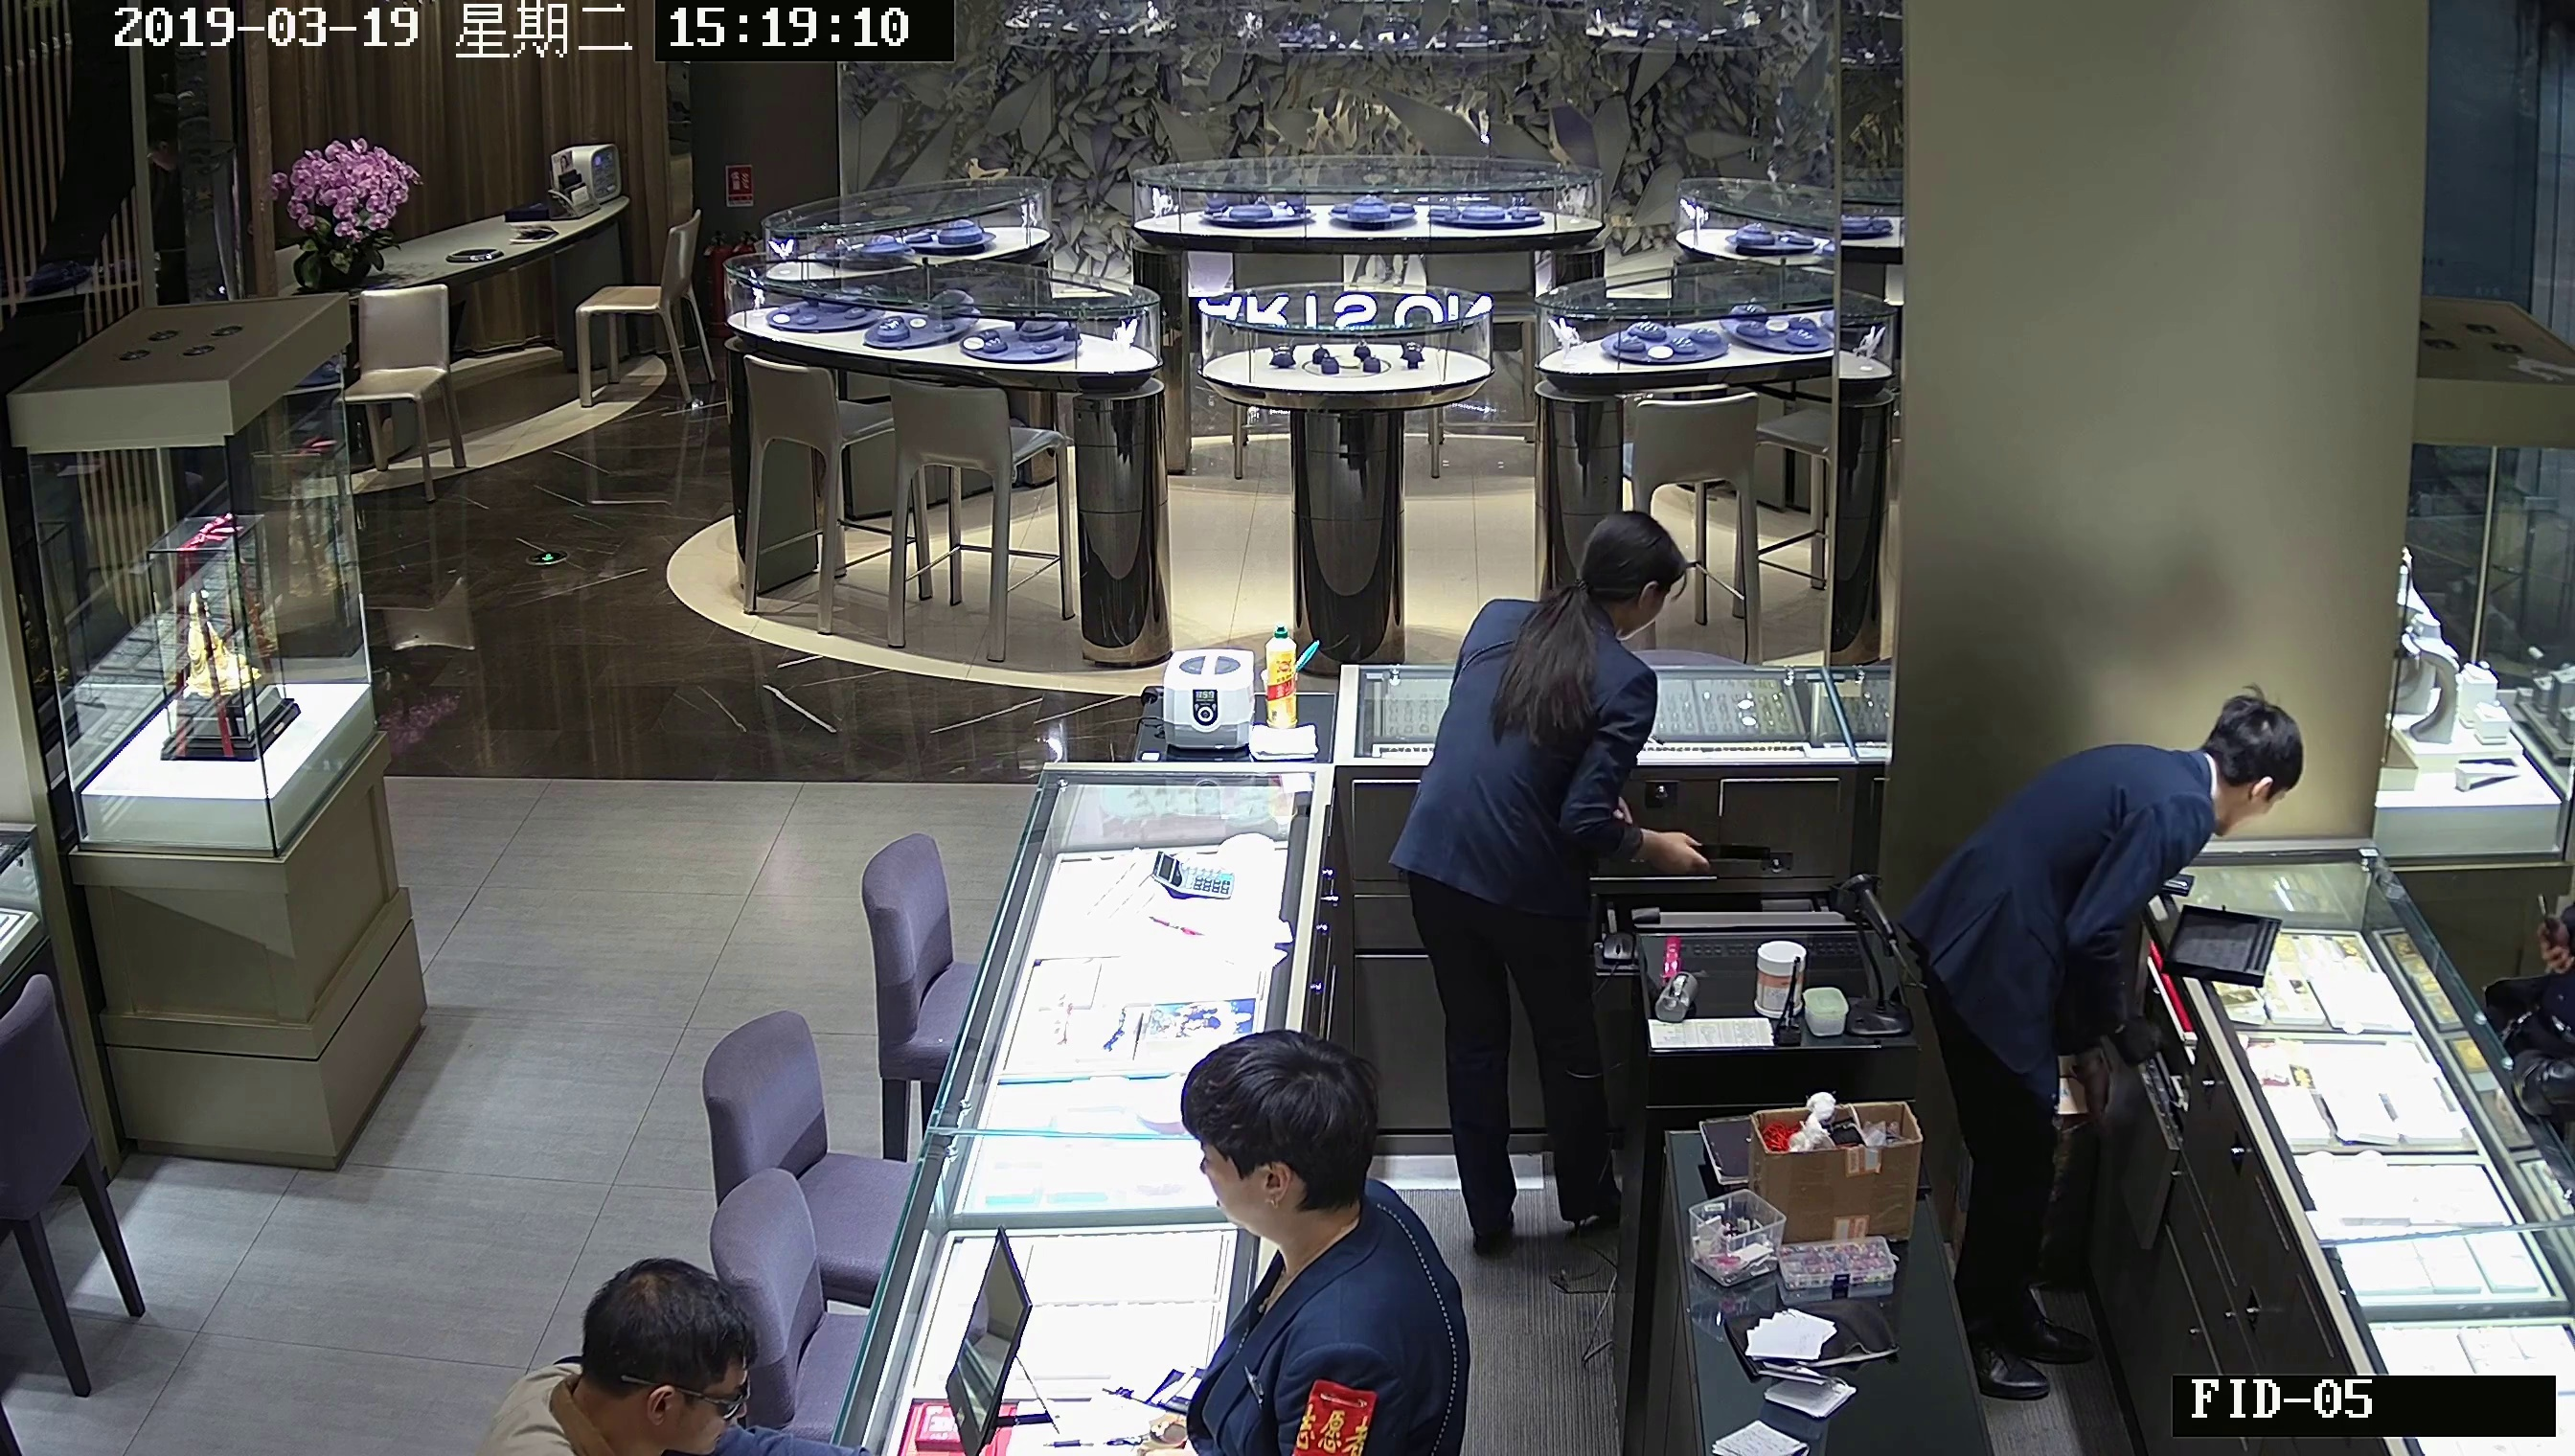head: (1177, 1025, 1376, 1221), (577, 1253, 756, 1451), (2202, 694, 2305, 832), (1575, 504, 1681, 635)
